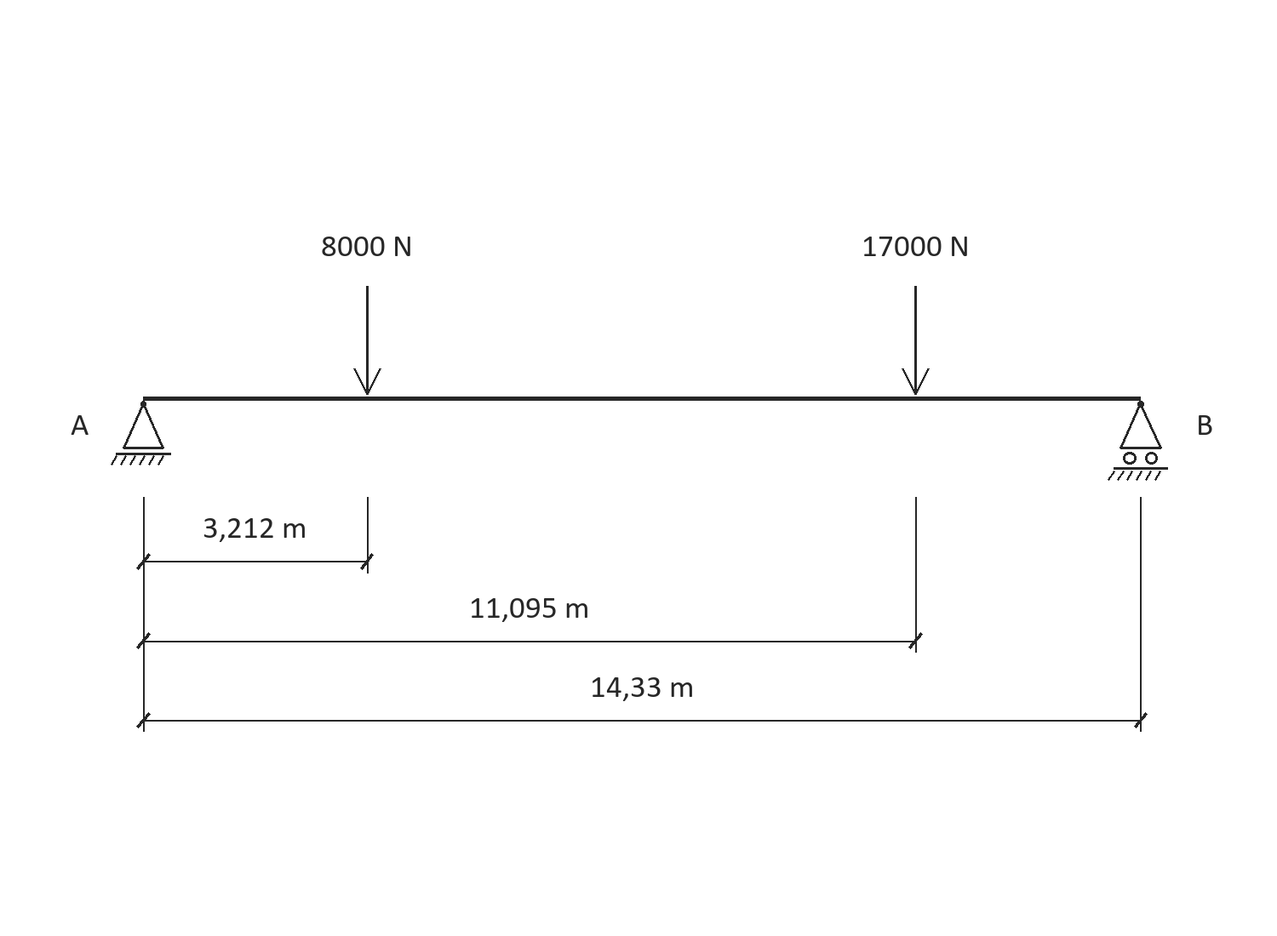pin_support: (111, 401, 171, 465)
point_load: (353, 286, 381, 395), (902, 286, 930, 395)
roller_support: (1108, 401, 1168, 481)
